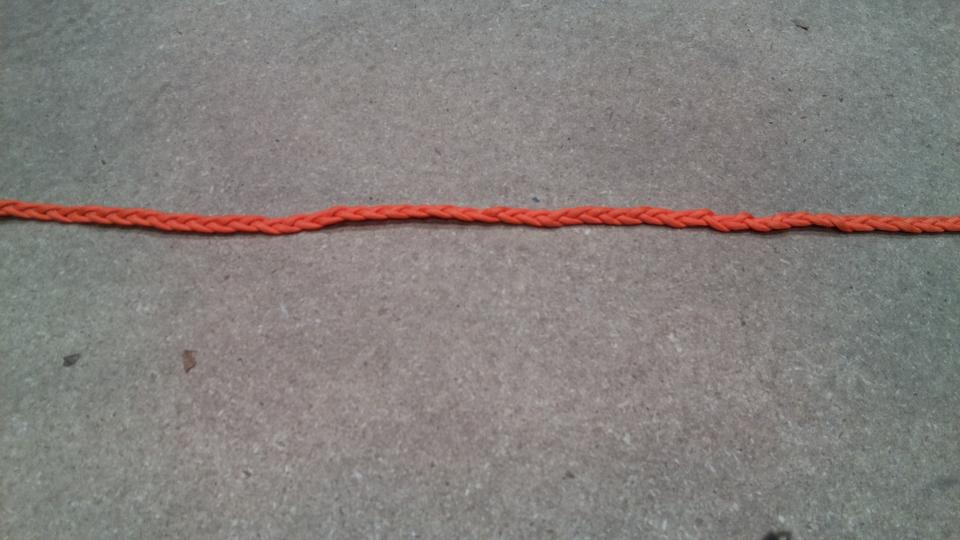rope: (1, 196, 960, 256)
